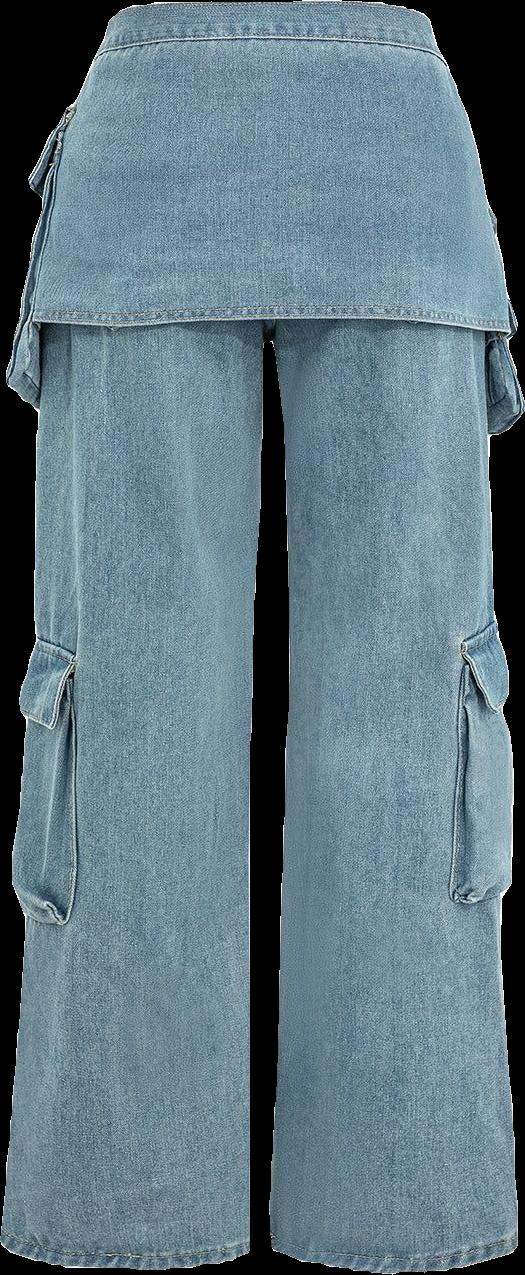Hemline: (25, 311, 513, 342), (265, 1228, 522, 1273), (0, 1228, 254, 1273)
Pantleg: (1, 1, 272, 1269), (272, 2, 524, 1271)
Waistline: (97, 30, 441, 61), (104, 0, 413, 27)
